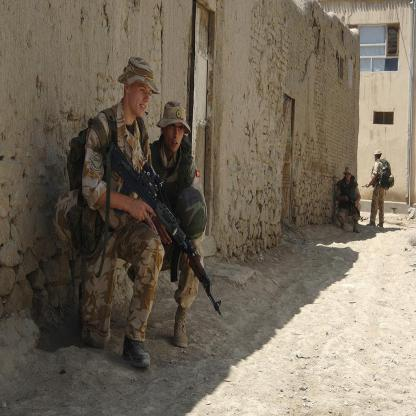face: (131, 75, 154, 119), (166, 117, 185, 154), (346, 170, 352, 181), (374, 154, 377, 162)
